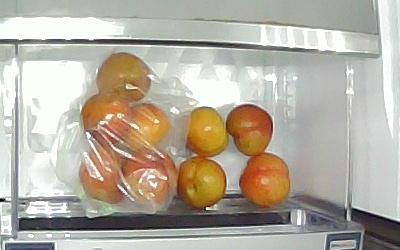prune: (240, 154, 291, 207), (227, 103, 275, 156), (178, 158, 228, 208), (182, 107, 228, 158)
prune_vinyl: (94, 52, 153, 105), (122, 150, 177, 206), (81, 145, 132, 203), (79, 94, 130, 146), (125, 103, 168, 154)
